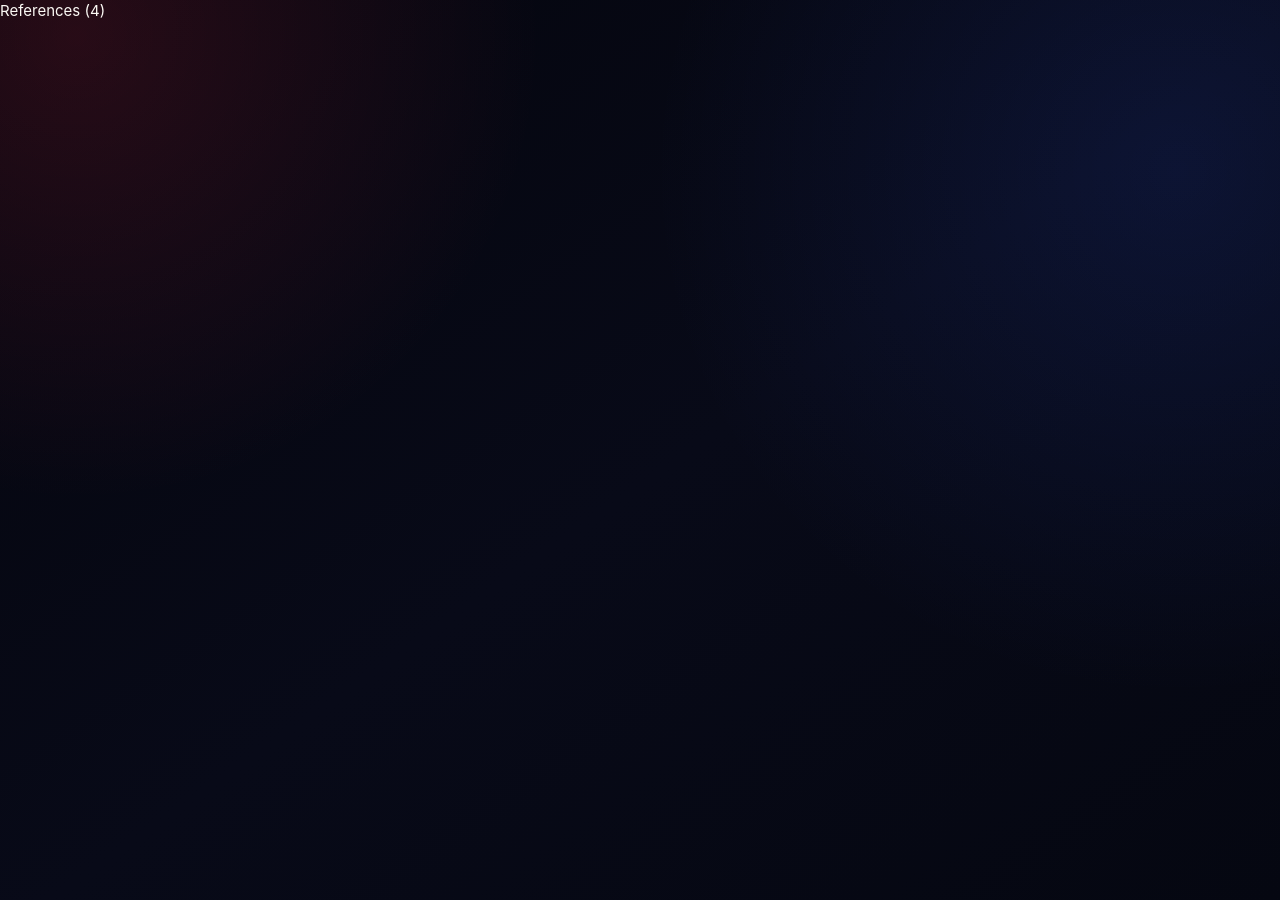
Scenario: DetailsSheet › mounts detail on demand, closes with Escape, and restores trigger focus
Expected: the text "ref_01" is not shown
Click the button "References (4)".
click(53, 11)  # box [0,0,105,22]
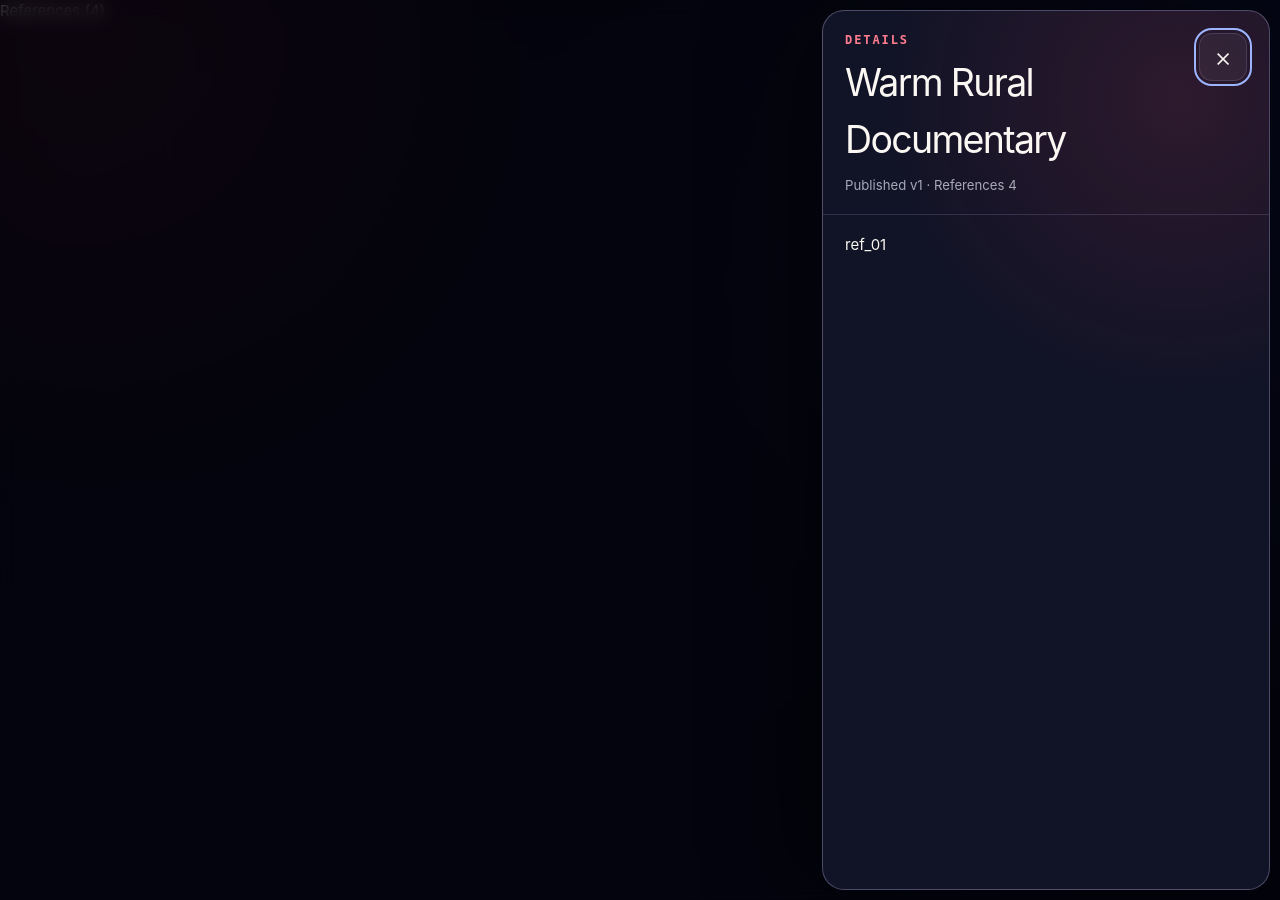
Expected: the dialog "Warm Rural Documentary" is shown, [822,10,1270,890]
Expected: the text "ref_01" is shown, [845,235,886,254]
Press Escape
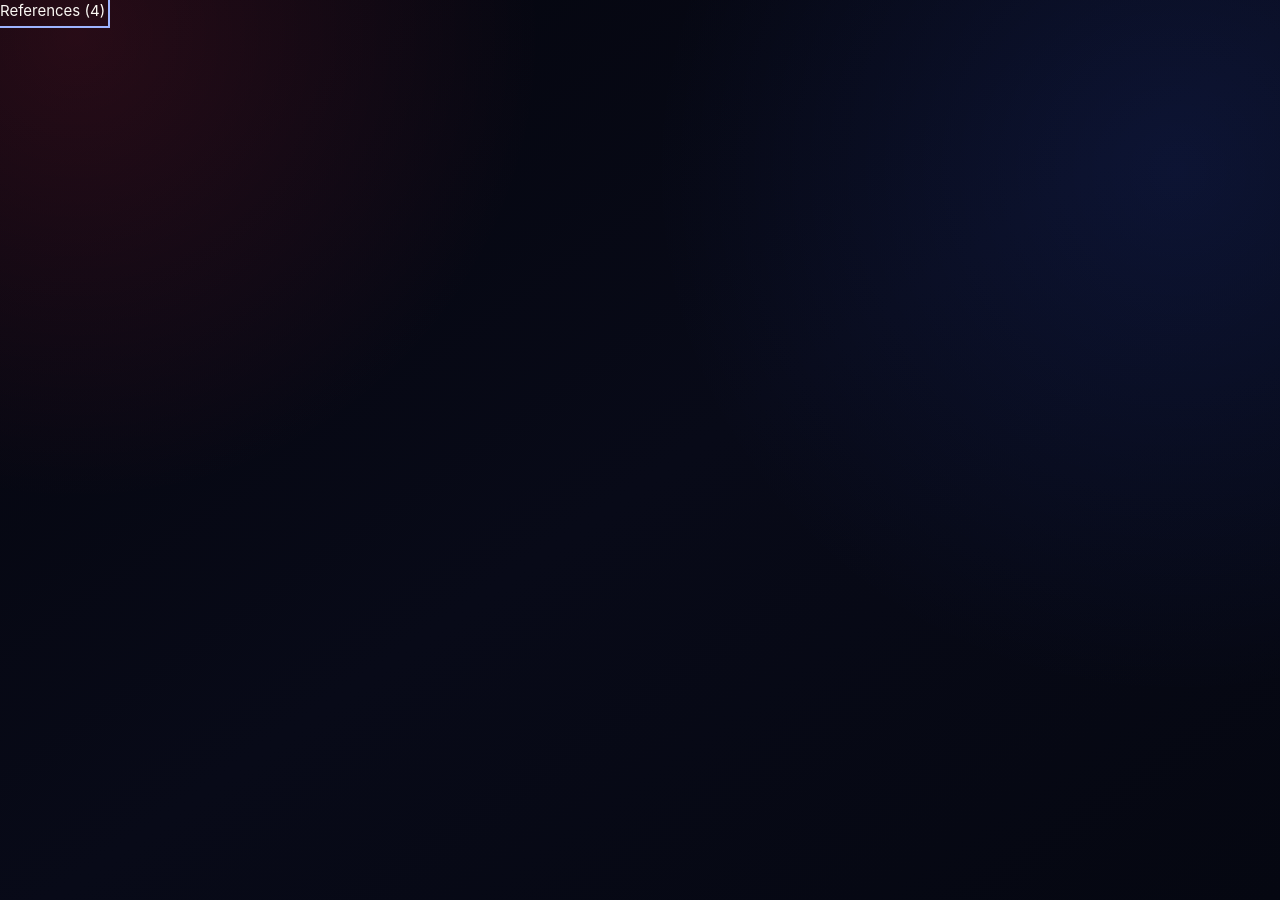
Expected: the dialog is gone
